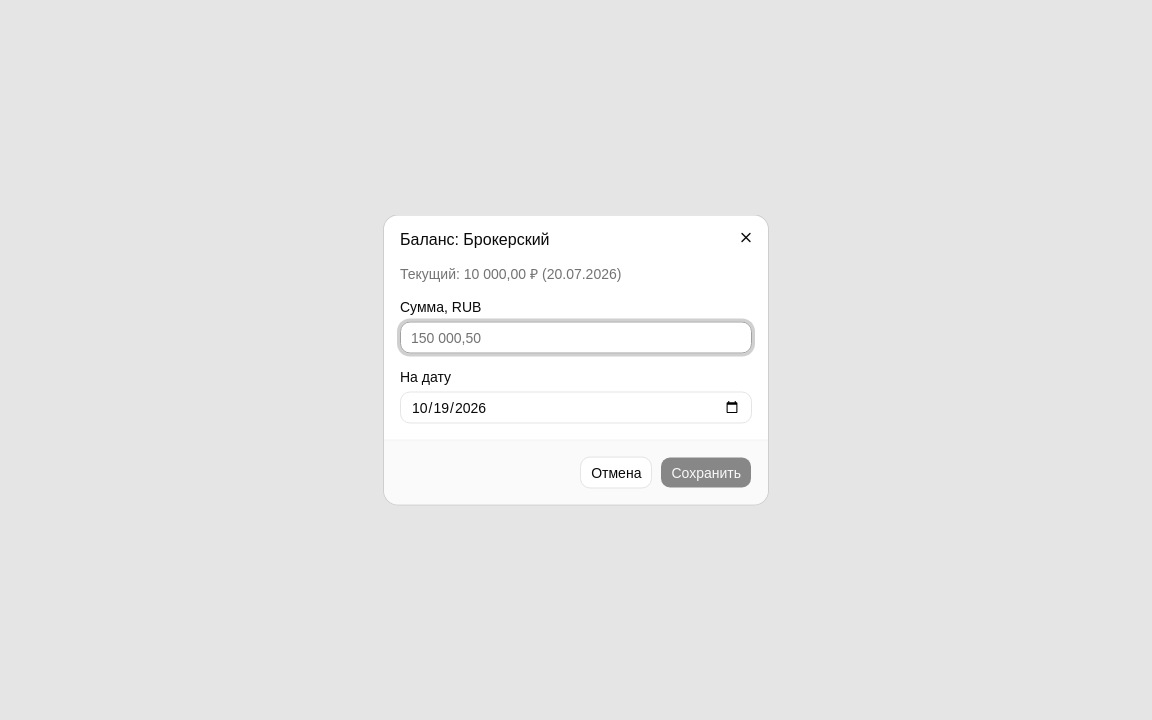
Test: BalanceDialog: a sum too large to record › takes the largest sum there is, and complains about nothing
Step 1. Type "10000000000000" into the field labelled "Сумма, RUB" → coordinates (576, 338), box [400, 322, 752, 354]
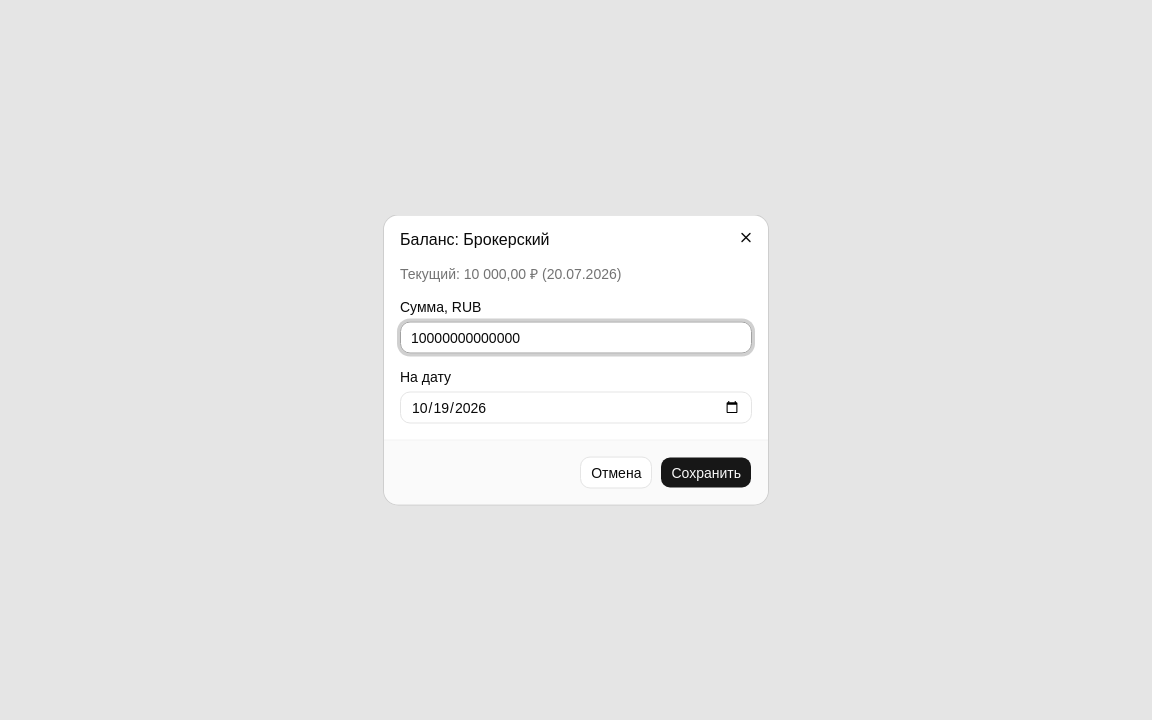
Expected: the button "Сохранить" is enabled, [660, 456, 752, 488]
